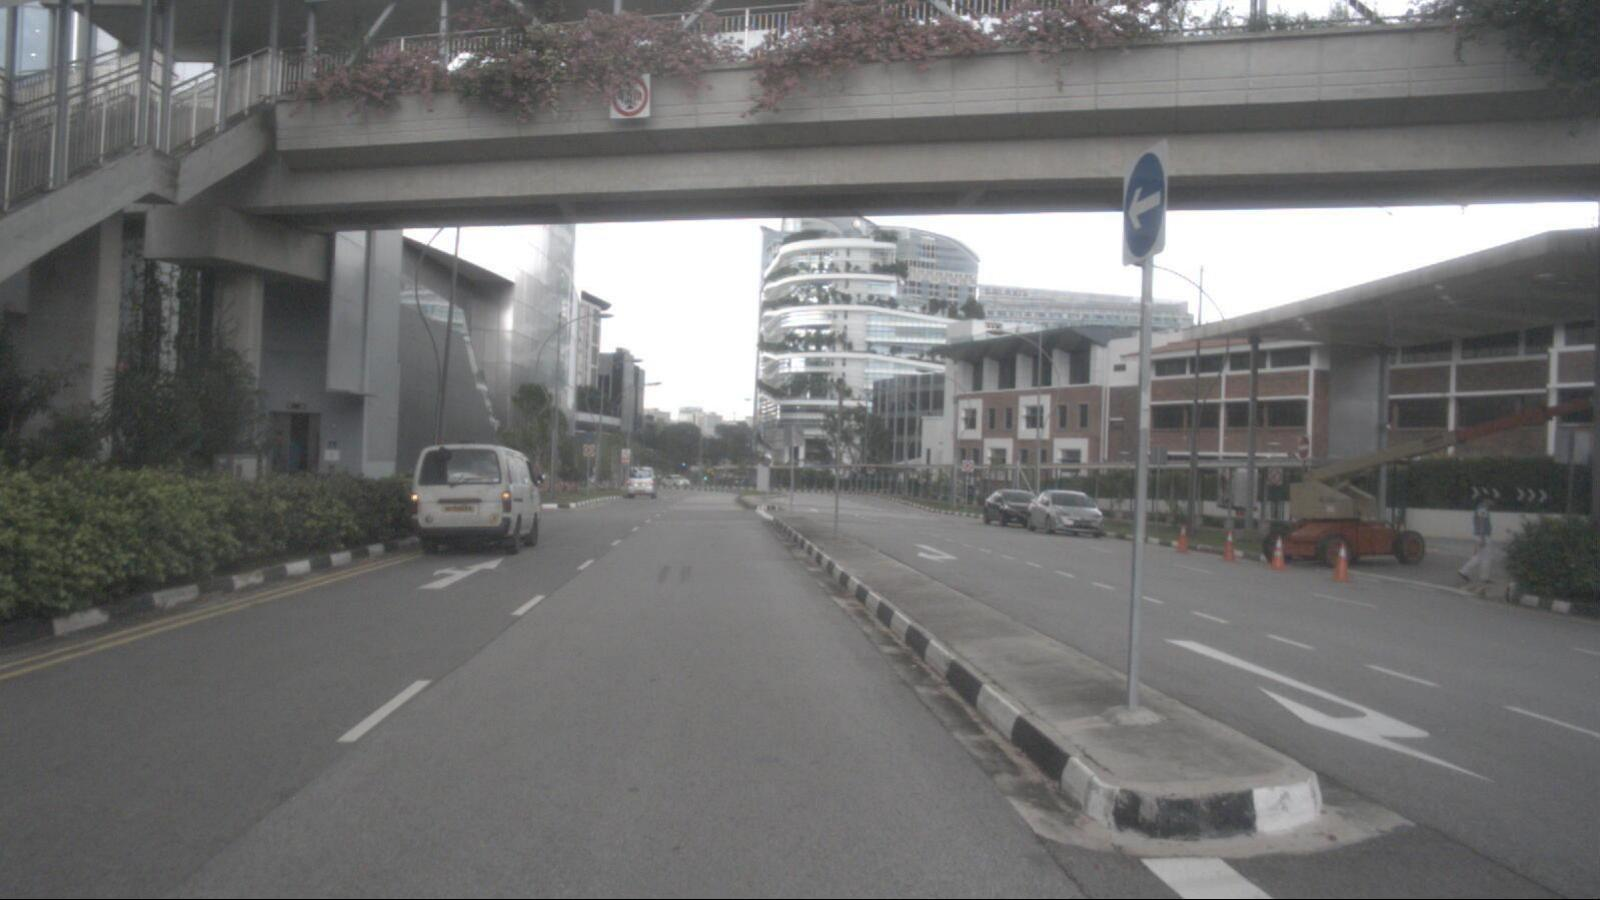human.pedestrian.adult-pedestrian.moving: (1454, 493, 1496, 584)
